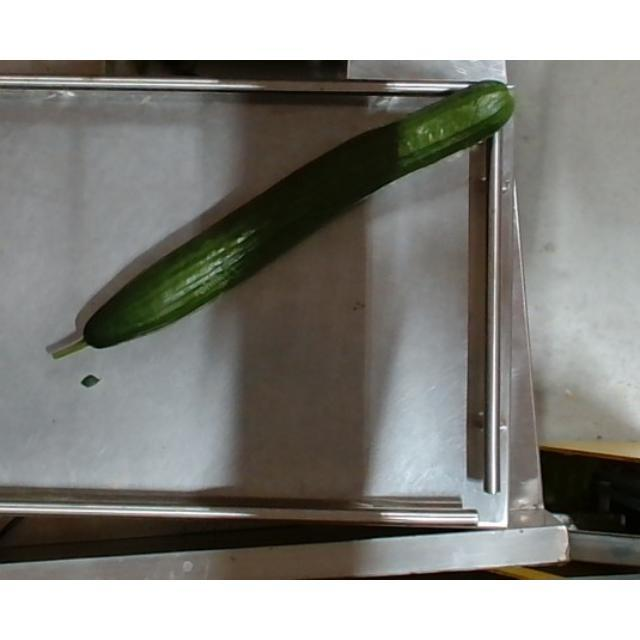cucumber: (52, 79, 516, 361)
